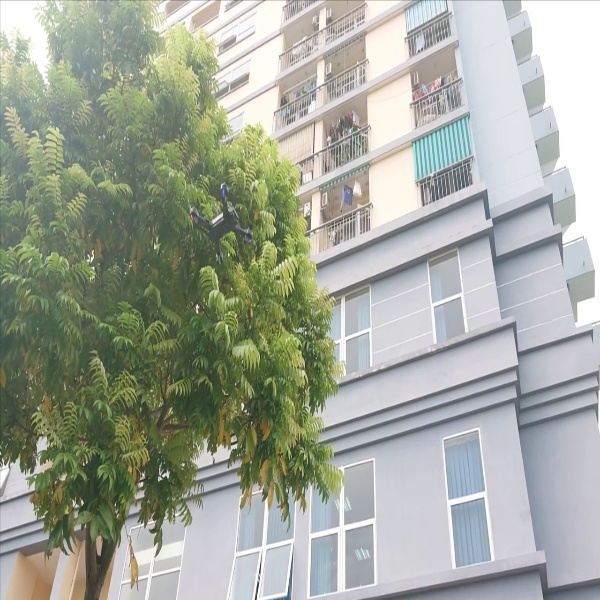drone: (184, 176, 262, 267)
